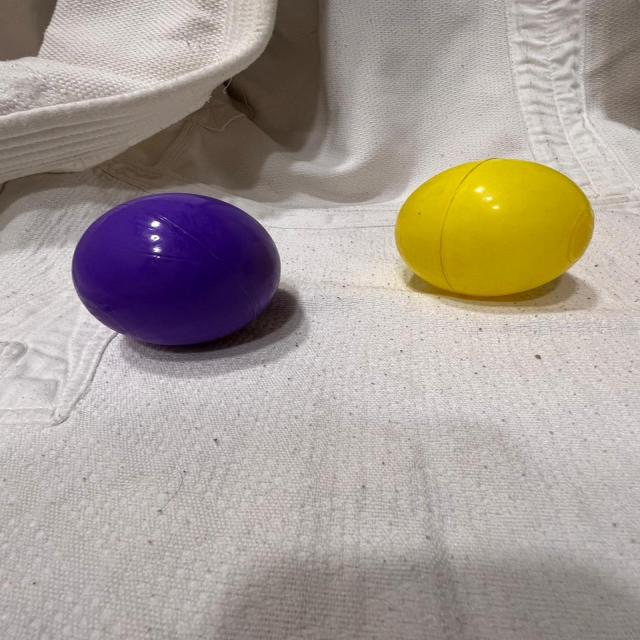ball: (70, 189, 284, 350), (394, 155, 598, 299)
